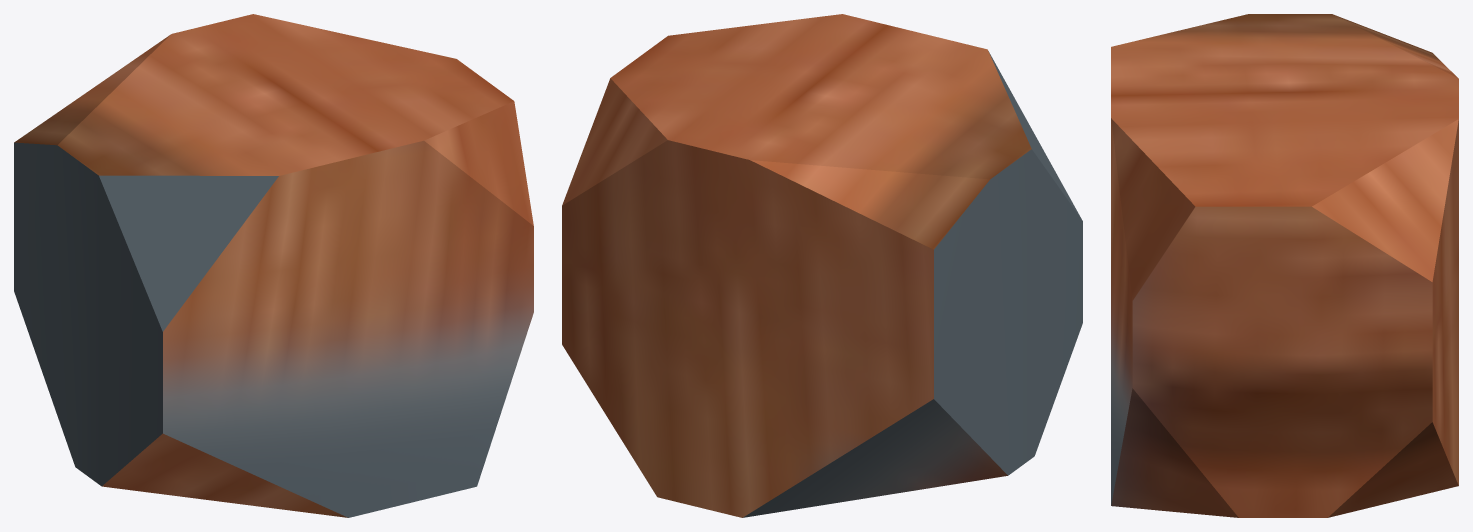
Rendered from gold2.fbx.
3 views of the same model, side by side, from view 1: azimuth 30°, elevation 25°; view 2: azimuth 150°, elevation 25°; view 3: azimuth 270°, elevation 25° (orthographic).
Visible parts, largest first — view 1: gold2; view 2: gold2; view 3: gold2.
Part boxes in pixels (x1=…): gold2: x1=14, y1=14, x2=533, y2=517; gold2: x1=562, y1=14, x2=1082, y2=517; gold2: x1=1111, y1=14, x2=1458, y2=517.
Size of the model in its own units: 2.04 by 1.8 by 1.56.
